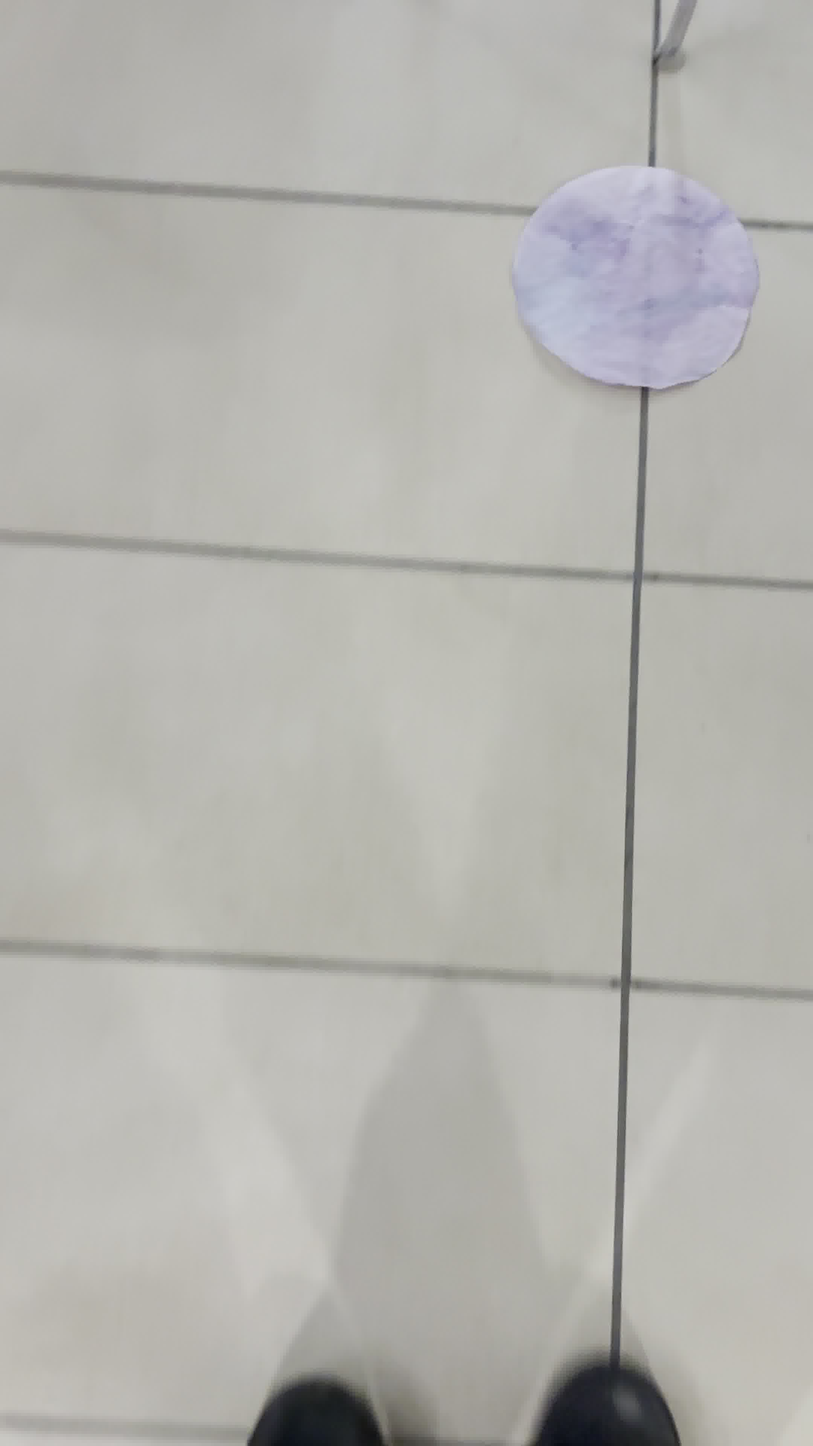Target: (499, 166, 776, 384)
